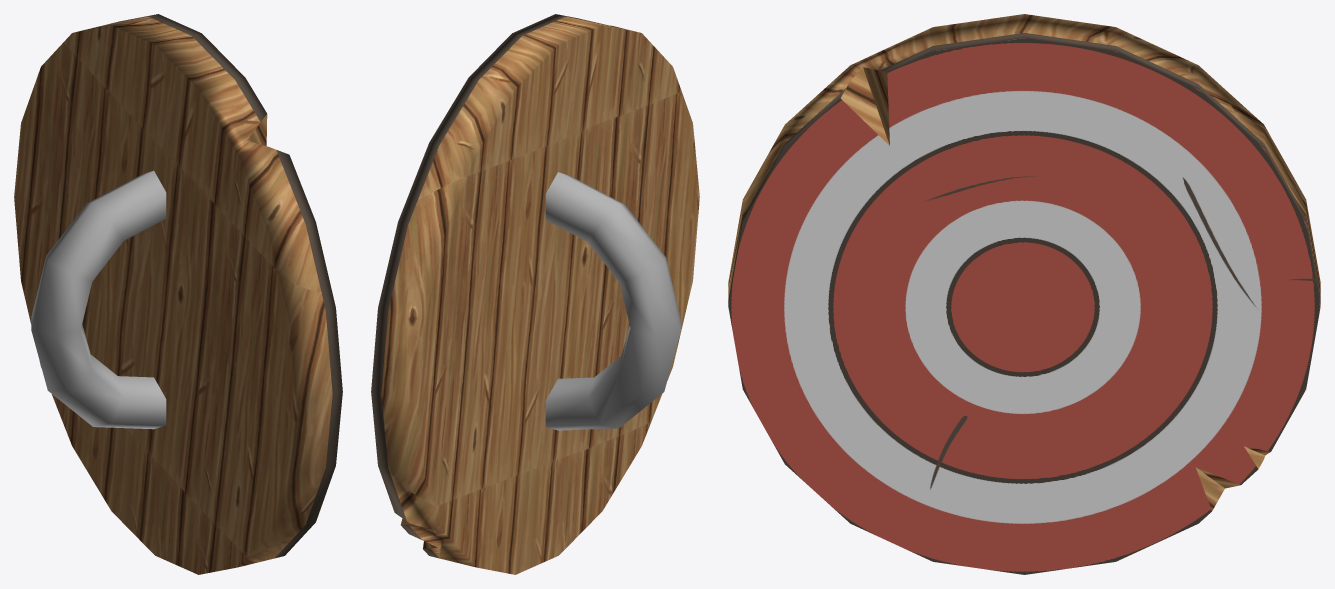
Rendered from щит дамми.fbx.
The picture shows the model from 3 angles, left to right: view 1: azimuth 30°, elevation 25°; view 2: azimuth 150°, elevation 25°; view 3: azimuth 270°, elevation 25°; orthographic projection. The views are drawn at different scales.
Visible parts, largest first — view 1: Цилиндр.012; view 2: Цилиндр.012; view 3: Цилиндр.012.
Part boxes in pixels (x1,y1,x2,y2): Цилиндр.012: [14, 14, 342, 574]; Цилиндр.012: [371, 14, 699, 574]; Цилиндр.012: [728, 14, 1320, 574].
Bounding box in the file's own units: 75.8 × 218 × 218.
